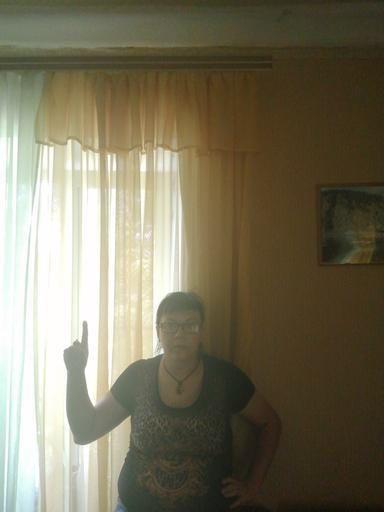one: (61, 319, 91, 374)
